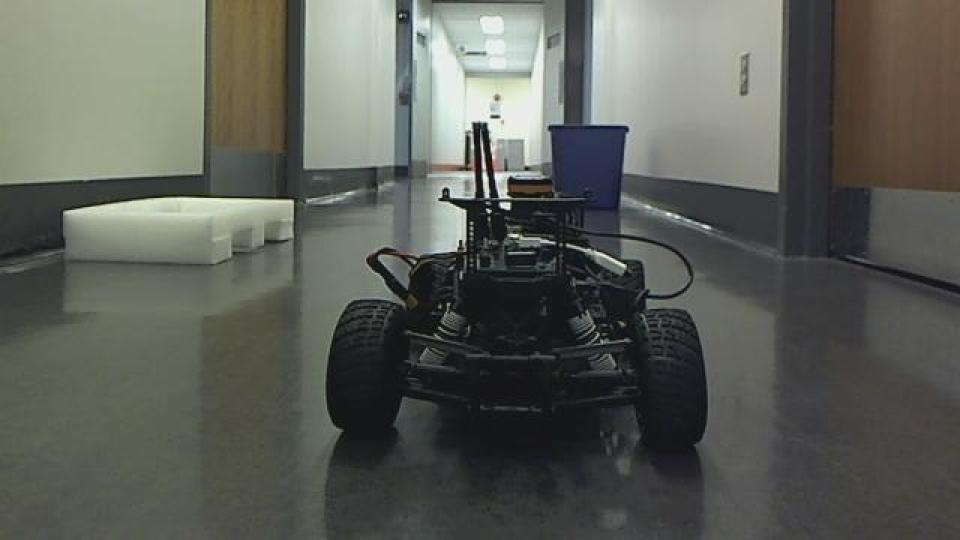car: (321, 120, 711, 458)
